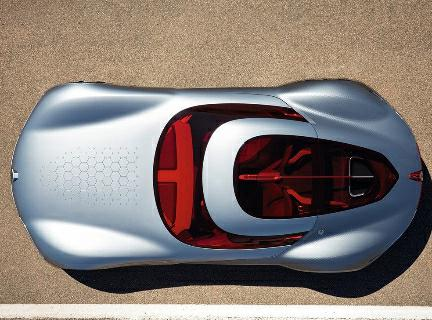雷诺-TREZOR: (12, 74, 432, 287)
